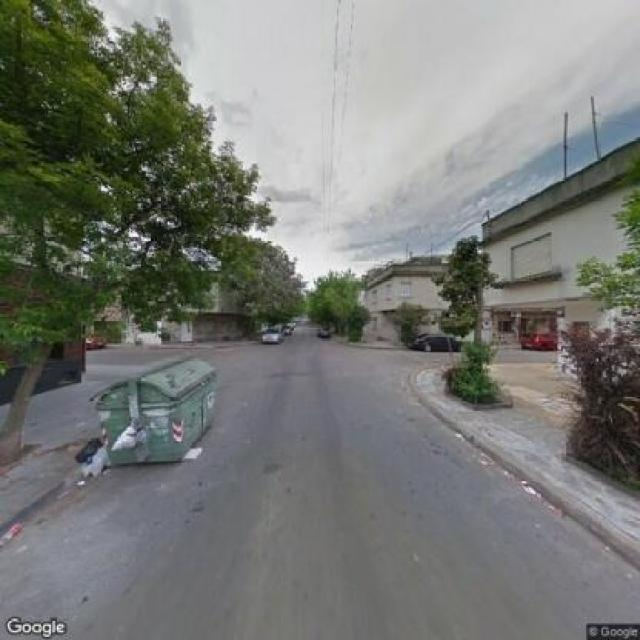garbage: (74, 434, 115, 481)
